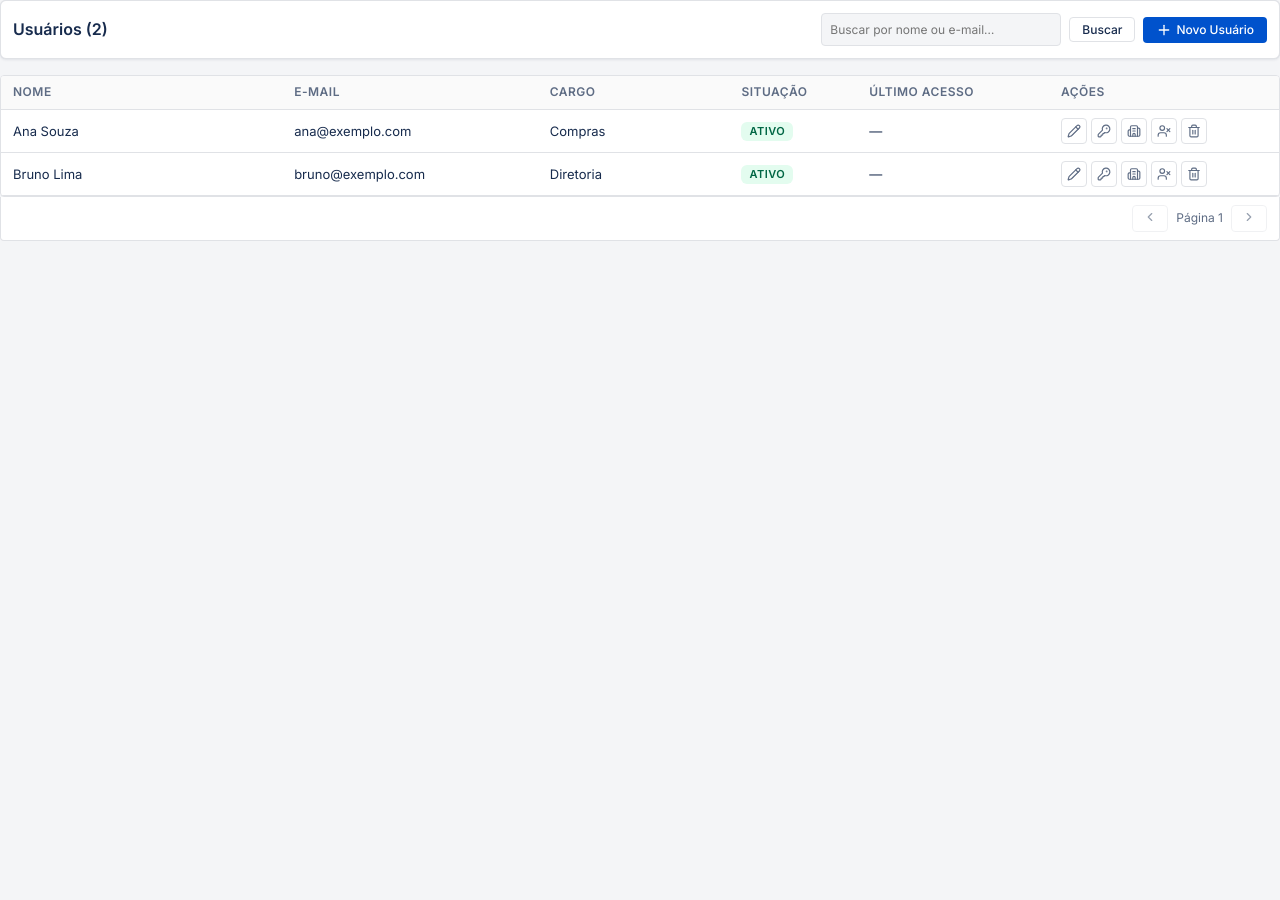
Scenario: Usuarios › abre as empresas do usuário escolhido
Expected: the text "Ana Souza" is shown, [1, 109, 282, 152]
Click the button named "Empresas do usuário" in the row of "Ana Souza" at (1134, 131), box [1121, 118, 1147, 144]
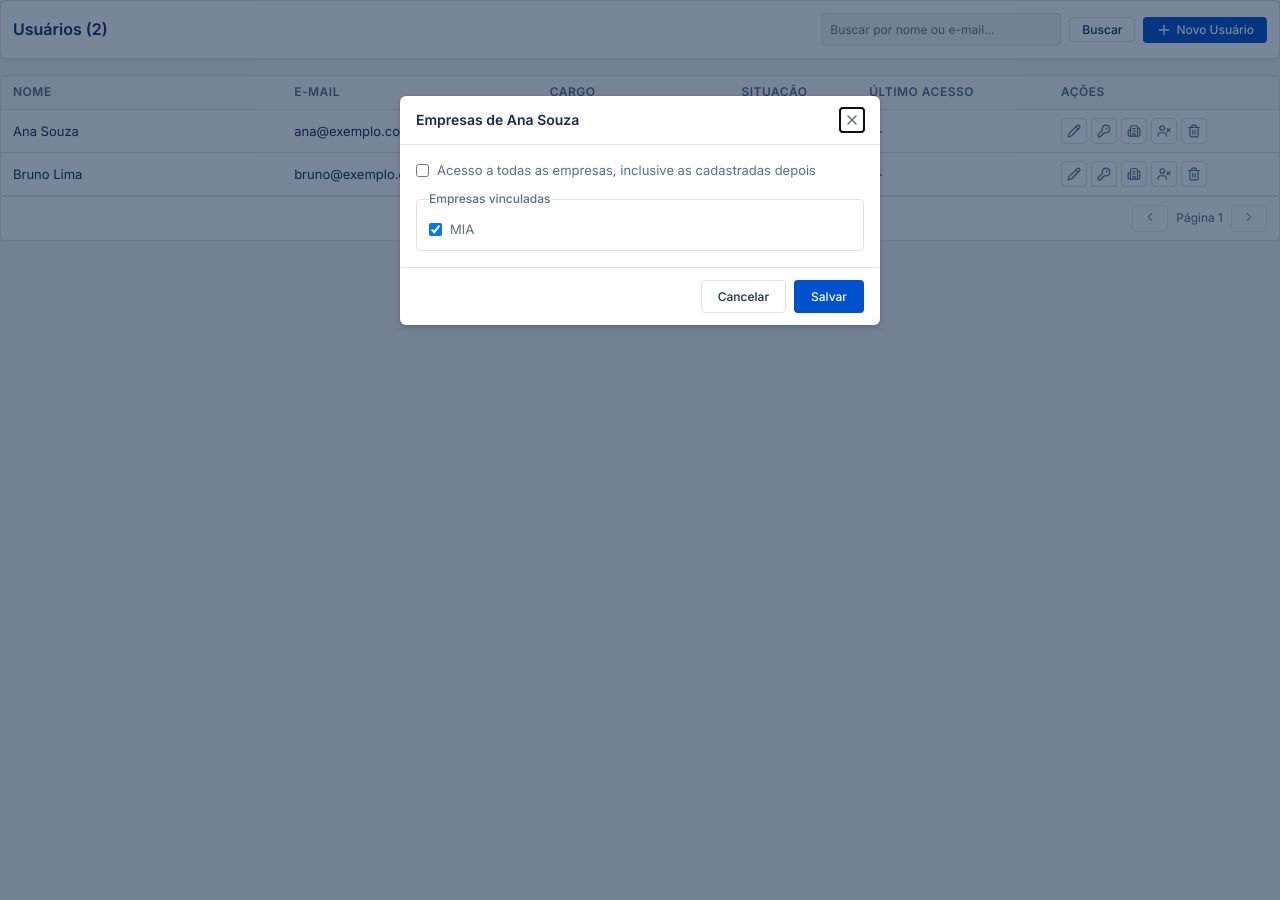
Result: the checkbox labelled "MIA" is checked at [429, 223, 442, 236]
